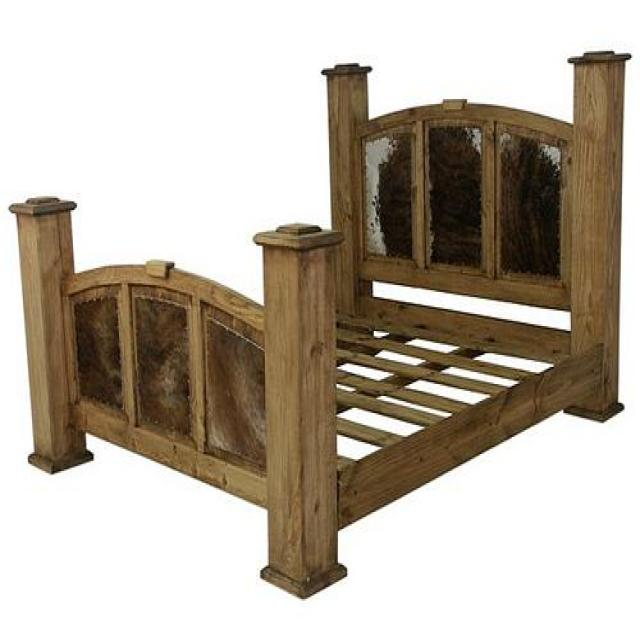bed: (8, 48, 631, 599)
